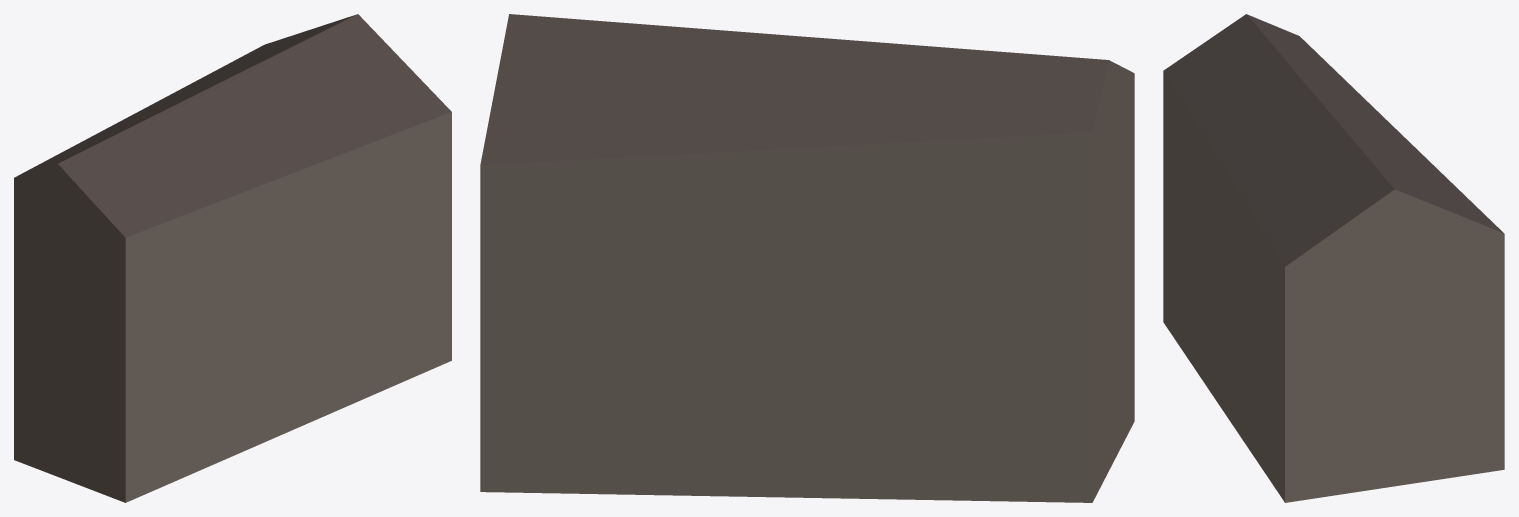
3 views of the same model, side by side, from view 1: azimuth 30°, elevation 25°; view 2: azimuth 150°, elevation 25°; view 3: azimuth 270°, elevation 25° (orthographic). The views are drawn at different scales.
Visible parts, largest first — view 1: HP-w1198842229; view 2: HP-w1198842229; view 3: HP-w1198842229.
Boxes of the visible parts, box(x1,y1,x2,y2) form: HP-w1198842229: box(14, 14, 451, 502); HP-w1198842229: box(480, 14, 1134, 502); HP-w1198842229: box(1163, 14, 1504, 502).
Size of the model in its own units: 10.85 by 7.55 by 7.86.
